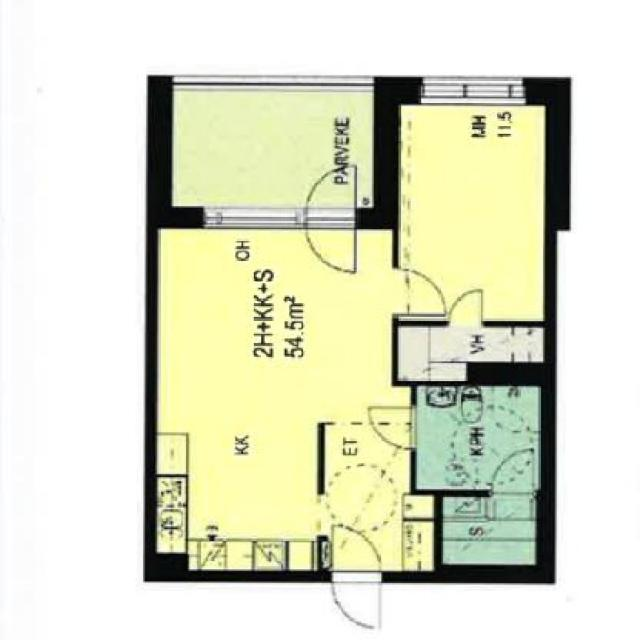door: (303, 162, 369, 280), (328, 525, 392, 632), (395, 269, 451, 323), (445, 282, 483, 331)
window: (425, 75, 523, 108), (172, 76, 371, 92), (202, 204, 310, 230)
zone: (158, 228, 432, 574), (402, 105, 540, 320), (174, 92, 372, 210), (417, 384, 535, 490), (394, 328, 544, 382), (446, 494, 534, 568)
